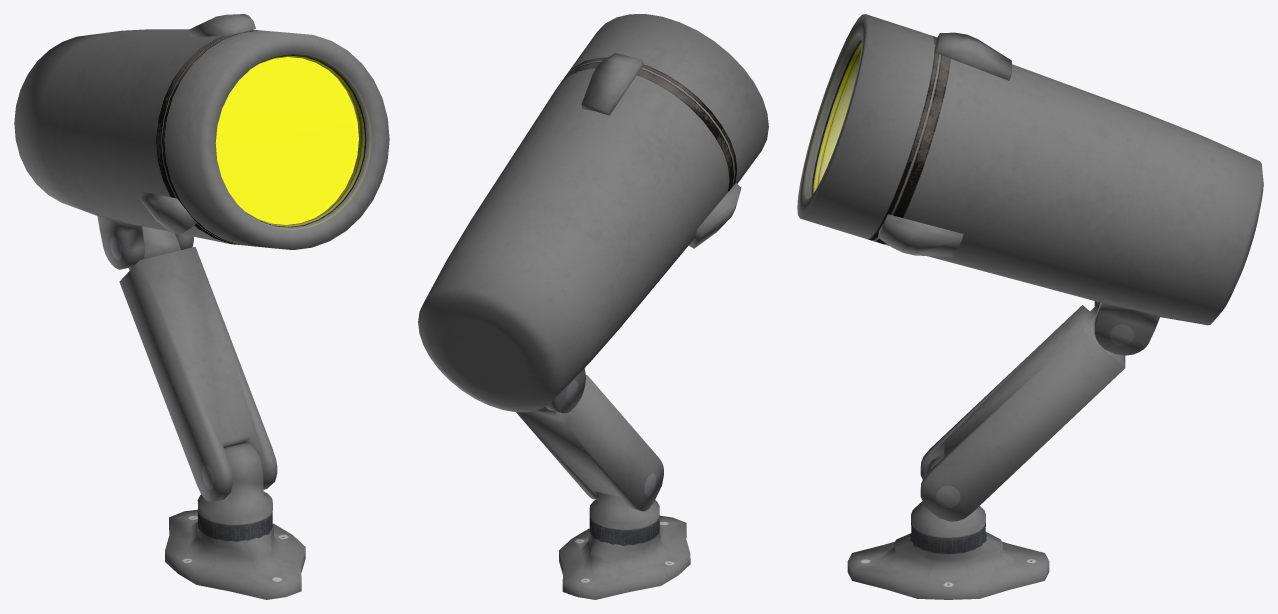
Rendered from spotlight.glb.
3 renders of one model, left to right at view 1: azimuth 30°, elevation 25°; view 2: azimuth 150°, elevation 25°; view 3: azimuth 270°, elevation 25°, orthographic. The views are drawn at different scales.
Parts seen in each view (by area): view 1: Spotlight; view 2: Spotlight; view 3: Spotlight.
Part boxes in pixels (x1,y1,x2,y2): Spotlight: (14,14,389,599); Spotlight: (418,14,768,599); Spotlight: (797,14,1263,599).
Size of the model in its own units: 0.413 by 1.09 by 0.84.
1 material, 1 textured.
